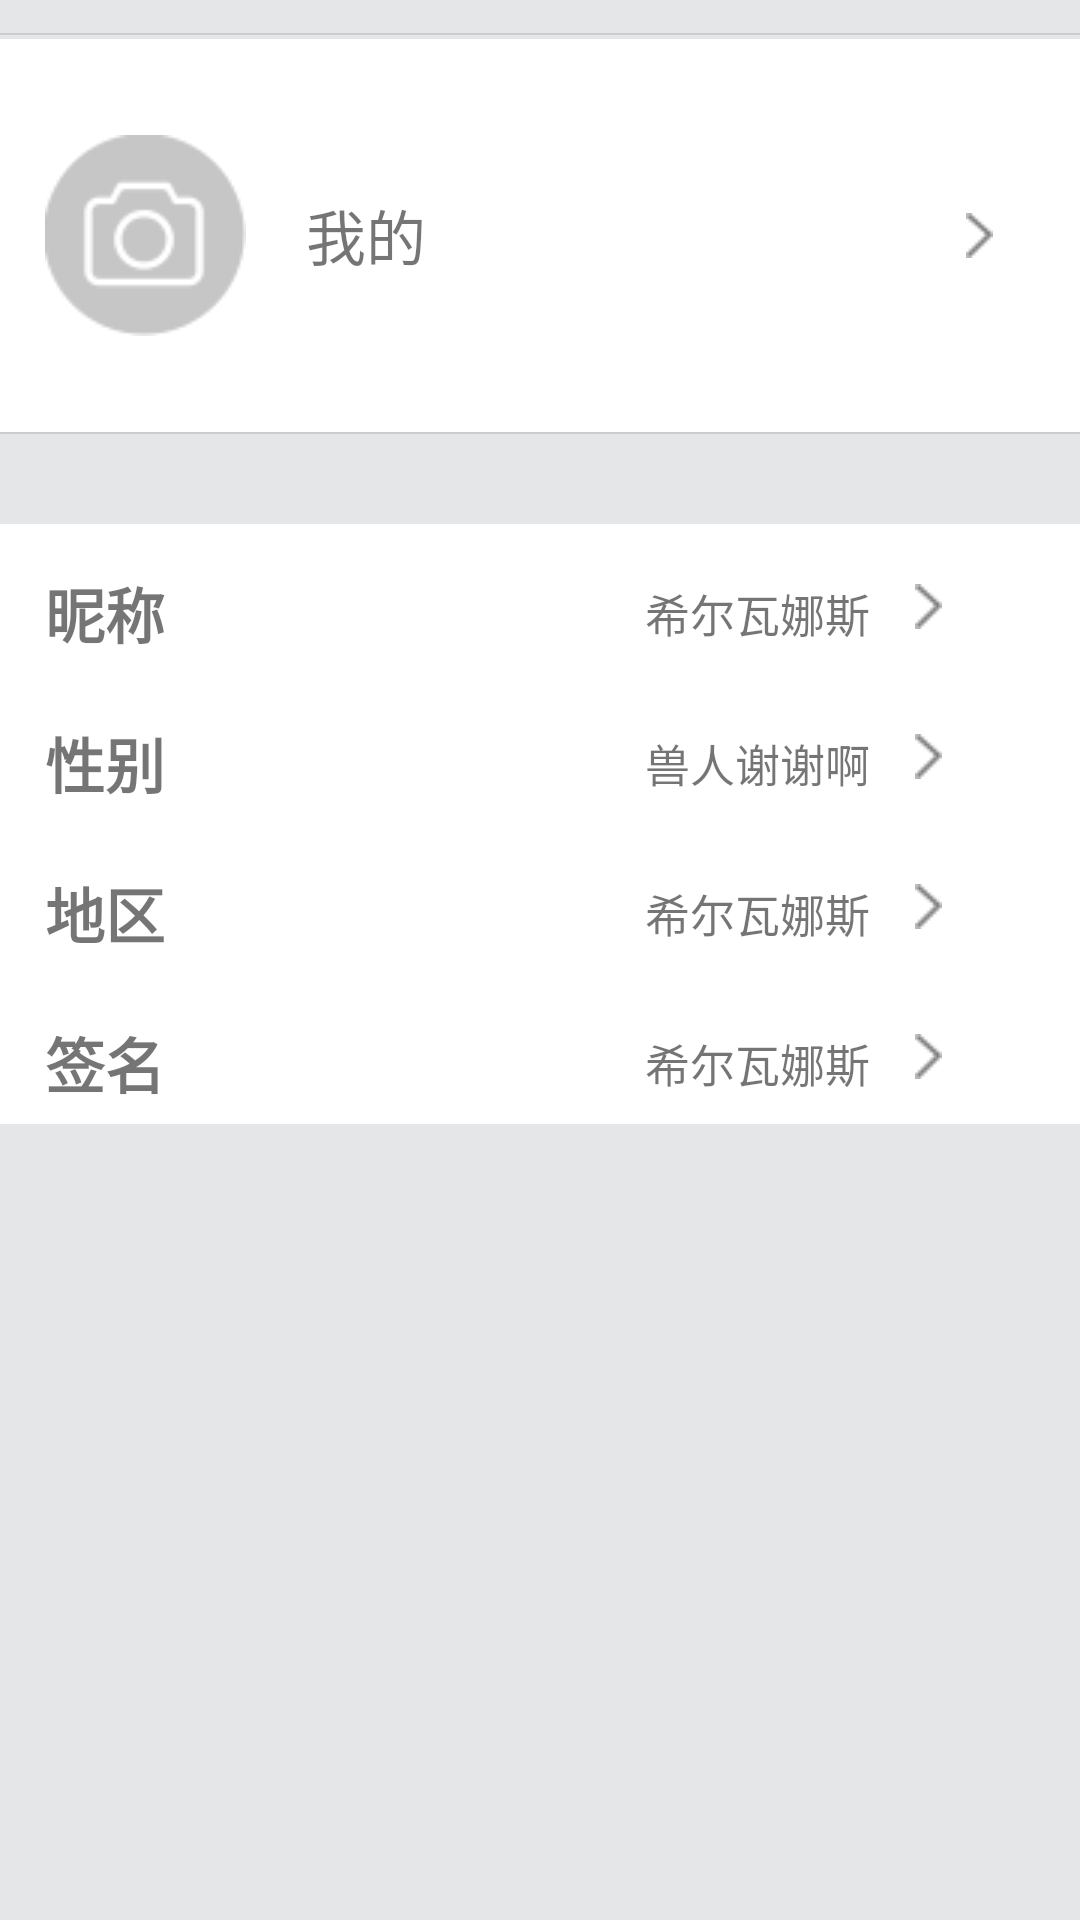

Point at icon controls on the screen. Image size 1080px x 1920px, points as (x=x, y=y).
jiantou: (x=979, y=235), (x=928, y=606), (x=928, y=756), (x=928, y=906), (x=928, y=1056)
wode xiangji: (x=145, y=235)
